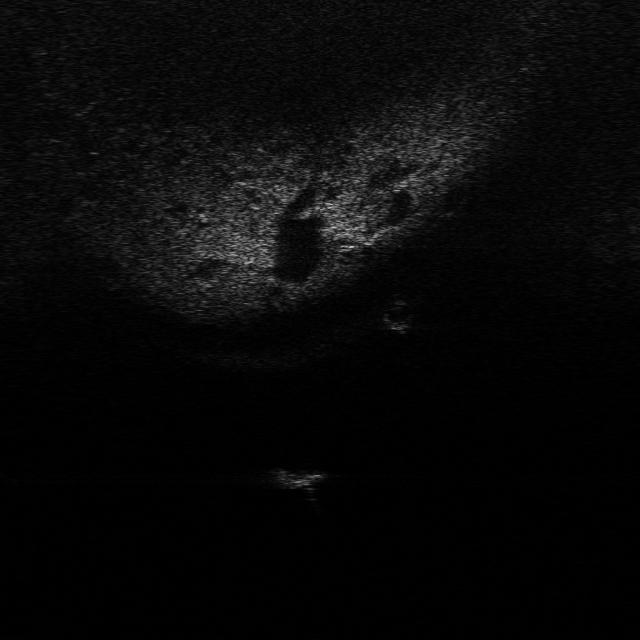ball: (380, 299, 420, 333)
cube: (264, 465, 327, 492)
